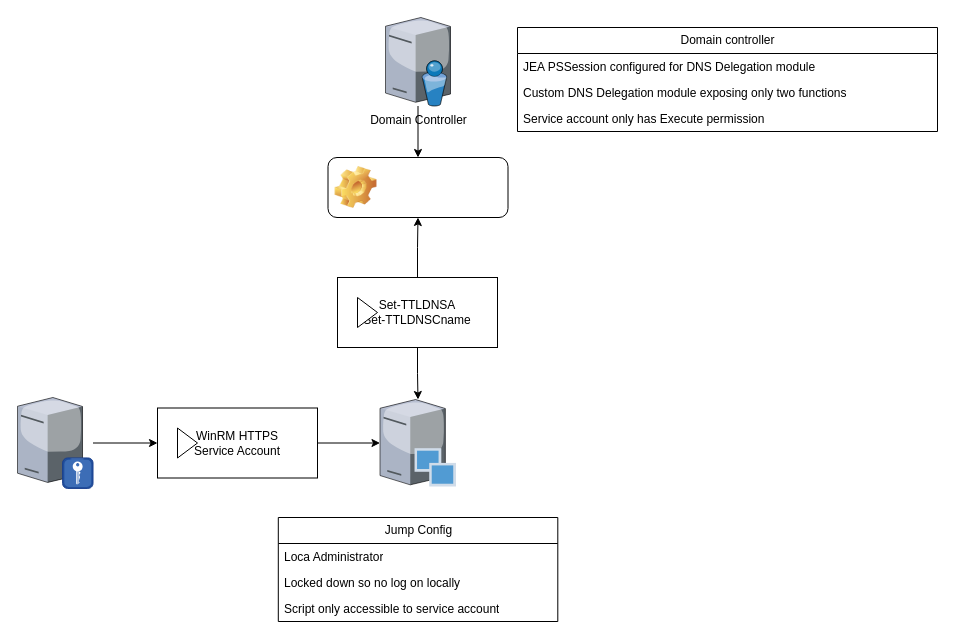
The diagram is 955 pixels wide and 641 high, and some of its shapes have lost their labels. The centre of each missing label's shape, as x and y in pixels:
"Ansible" goes at point (54, 442).
"JEA Set-TTLDNSA Set-TTLDNSCNAME" goes at point (417, 187).
"Jump" goes at point (418, 442).
